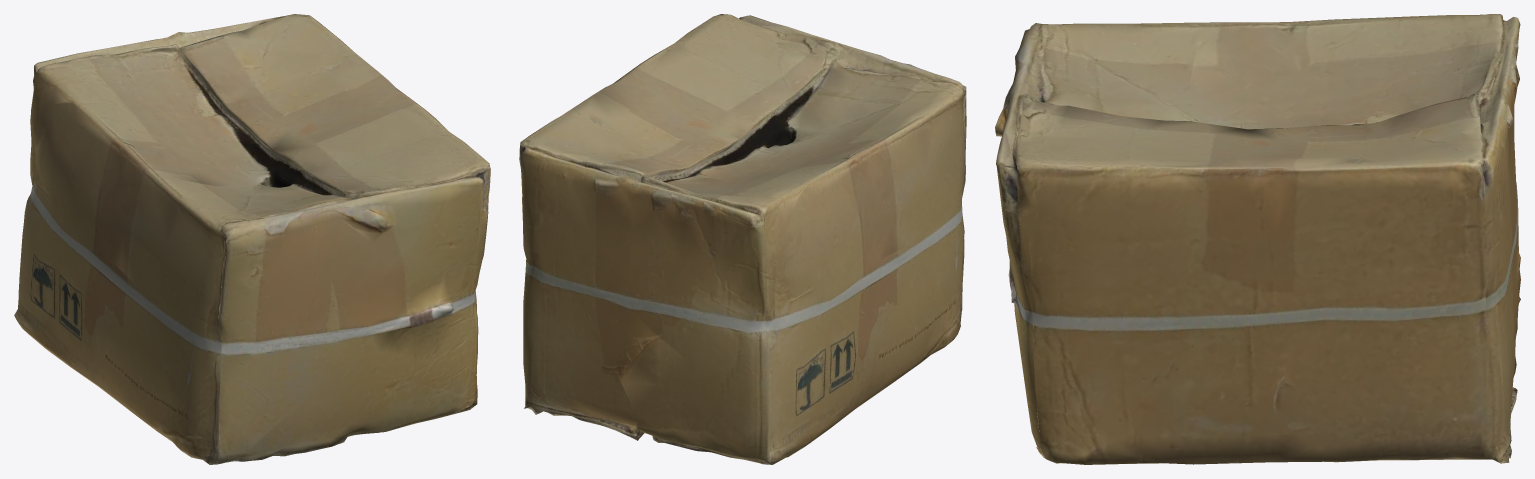
3 views of the same model, side by side, from view 1: azimuth 30°, elevation 25°; view 2: azimuth 150°, elevation 25°; view 3: azimuth 270°, elevation 25° (orthographic). The views are drawn at different scales.
Parts seen in each view (by area): view 1: cardboard_box_01; view 2: cardboard_box_01; view 3: cardboard_box_01.
Boxes of the visible parts, x1,y1,x2,y2 form: cardboard_box_01: (14, 14, 490, 464); cardboard_box_01: (519, 14, 966, 464); cardboard_box_01: (995, 14, 1520, 464).
Size of the model in its own units: 0.3871 by 0.3415 by 0.5159.
1 material, 1 textured.
